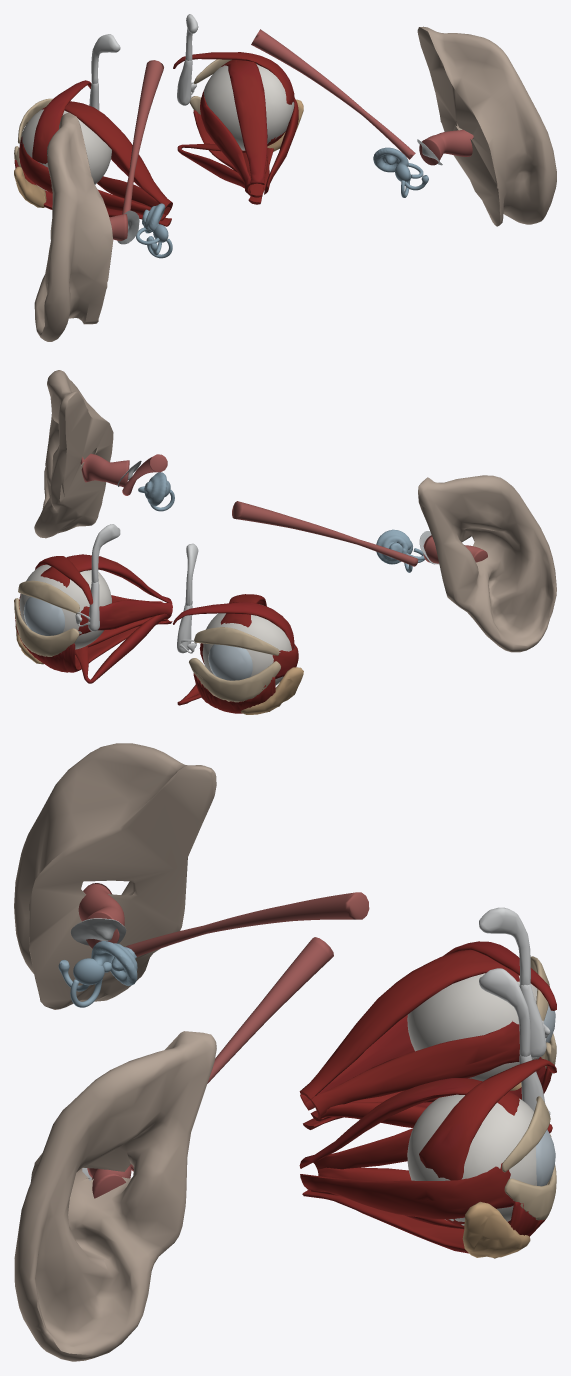
File: senseOrgans.glb
The picture shows the model from 3 angles, top to bottom: view 1: azimuth 30°, elevation 25°; view 2: azimuth 150°, elevation 25°; view 3: azimuth 270°, elevation 25°; orthographic projection. The views are drawn at different scales.
Visible parts, largest first — view 1: FJ2811, FJ1295, FJ1317, FJ1346, MOD_tuba_auditiva_l, MOD_tuba_auditiva_r, FJ1368, FJ1345, FJ1308, FJ1355, MOD_meatus_acusticus_externus_l, FJ1294 (+13 smaller); view 2: FJ2811, MOD_tuba_auditiva_r, FJ1317, FJ1368, FJ1375, FJ1308, FJ1295, FJ1306, FJ1345, FJ1340, FJ1324, FJ1322 (+17 smaller); view 3: FJ2811, FJ1359, FJ1346, FJ1304, FJ1317, FJ1368, FJ1294, MOD_tuba_auditiva_r, MOD_tuba_auditiva_l, FJ1295, FJ1306, FJ1299 (+16 smaller).
Boxes of the visible parts, x1,y1,x2,y2 form: FJ2811: [34, 26, 556, 341]; FJ1295: [221, 60, 267, 184]; FJ1317: [204, 64, 294, 150]; FJ1346: [42, 101, 171, 208]; MOD_tuba_auditiva_l: [251, 29, 415, 159]; MOD_tuba_auditiva_r: [122, 60, 163, 214]; FJ1368: [19, 109, 111, 191]; FJ1345: [32, 80, 91, 163]; FJ1308: [200, 89, 251, 192]; FJ1355: [19, 136, 150, 214]; MOD_meatus_acusticus_externus_l: [419, 129, 473, 165]; FJ1294: [173, 52, 294, 104]; FJ2811: [34, 370, 556, 652]; MOD_tuba_auditiva_r: [232, 501, 418, 566]; FJ1317: [19, 564, 111, 649]; FJ1368: [202, 613, 294, 685]; FJ1375: [189, 658, 280, 702]; FJ1308: [78, 599, 172, 635]; FJ1295: [40, 554, 172, 603]; FJ1306: [15, 617, 172, 672]; FJ1345: [173, 602, 294, 649]; FJ1340: [208, 644, 252, 680]; FJ1324: [14, 598, 79, 656]; FJ1322: [75, 613, 169, 683]; FJ2811: [14, 743, 216, 1361]; FJ1359: [310, 1021, 519, 1117]; FJ1346: [299, 949, 519, 1099]; FJ1304: [300, 1163, 514, 1219]; FJ1317: [407, 1094, 536, 1225]; FJ1368: [407, 973, 539, 1081]; FJ1294: [419, 1058, 556, 1180]; MOD_tuba_auditiva_r: [126, 892, 369, 956]; MOD_tuba_auditiva_l: [130, 937, 333, 1171]; FJ1295: [299, 1078, 520, 1168]; FJ1306: [302, 1190, 545, 1253]; FJ1299: [462, 1201, 530, 1258].
Bounding box in the file's own units: 168 × 57.28 × 99.72.
